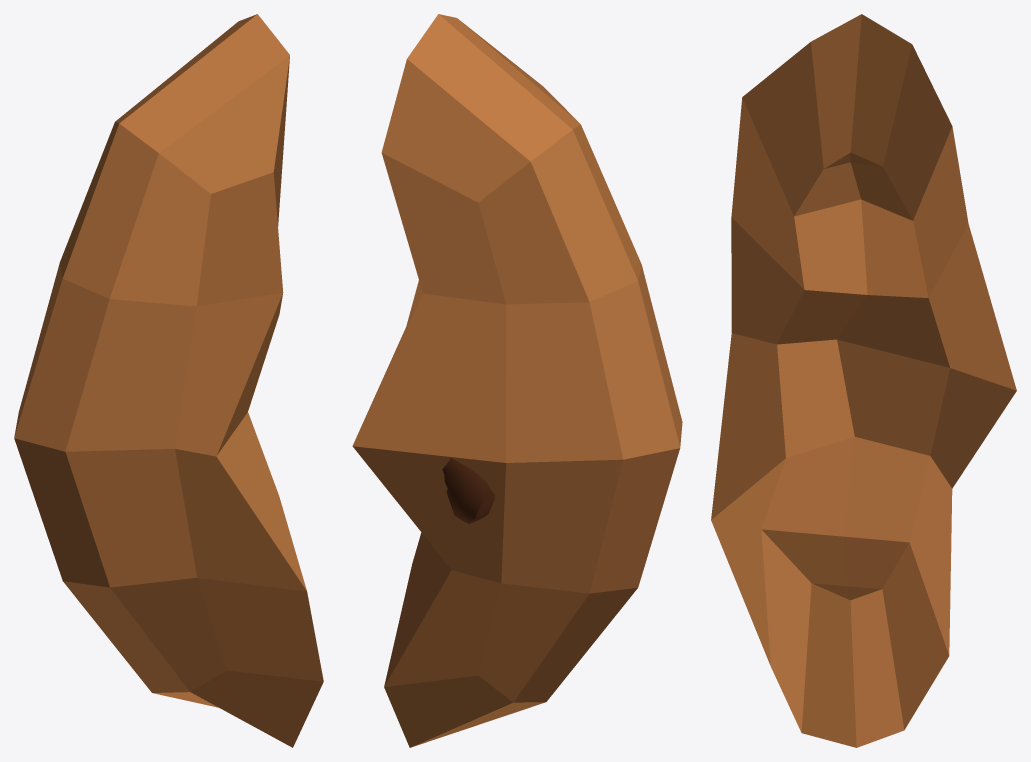
The model's file is cookie-3.glb.
3 views of the same model, side by side, from view 1: azimuth 30°, elevation 25°; view 2: azimuth 150°, elevation 25°; view 3: azimuth 270°, elevation 25° (orthographic).
Parts seen in each view (by area): view 1: Cube.001; view 2: Cube.001, Cube.005; view 3: Cube.001.
Boxes of the visible parts, x1=… form: Cube.001: x1=14, y1=14, x2=323, y2=747; Cube.001: x1=352, y1=14, x2=682, y2=747; Cube.005: x1=442, y1=458, x2=494, y2=523; Cube.001: x1=711, y1=14, x2=1016, y2=747.
Bounding box in the file's own units: 0.6397 × 1.61 × 0.6201.
